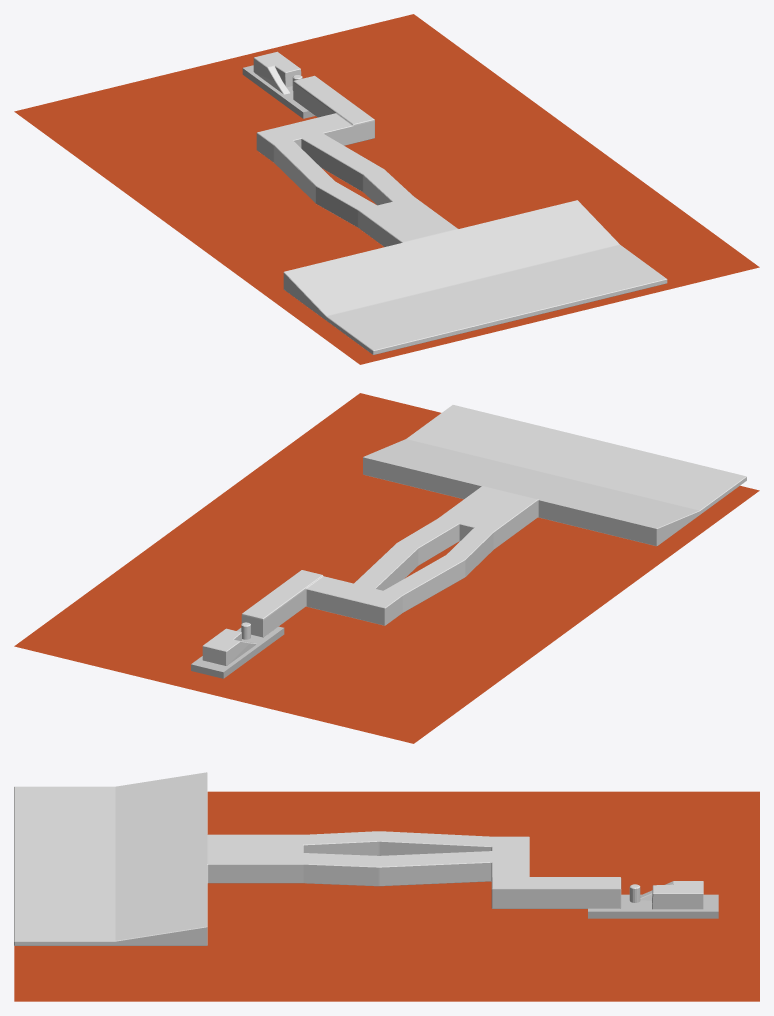
The model's file is Level1.fbx.
3 renders of one model, top to bottom at view 1: azimuth 30°, elevation 25°; view 2: azimuth 150°, elevation 25°; view 3: azimuth 270°, elevation 25°, orthographic. The views are drawn at different scales.
Visible parts, largest first — view 1: Lava, level, Floor; view 2: Lava, level, Floor; view 3: Lava, level, Floor.
Part boxes in pixels (left/top/right/bottom): Lava: left=14, top=14, right=759, bottom=364; level: left=253, top=51, right=667, bottom=354; Floor: left=242, top=65, right=314, bottom=118; Lava: left=14, top=393, right=759, bottom=743; level: left=202, top=405, right=746, bottom=665; Floor: left=191, top=626, right=284, bottom=678; Lava: left=14, top=791, right=759, bottom=1001; level: left=14, top=772, right=703, bottom=945; Floor: left=588, top=894, right=718, bottom=918.
Size of the model in its own units: 129 by 8.98 by 193.
